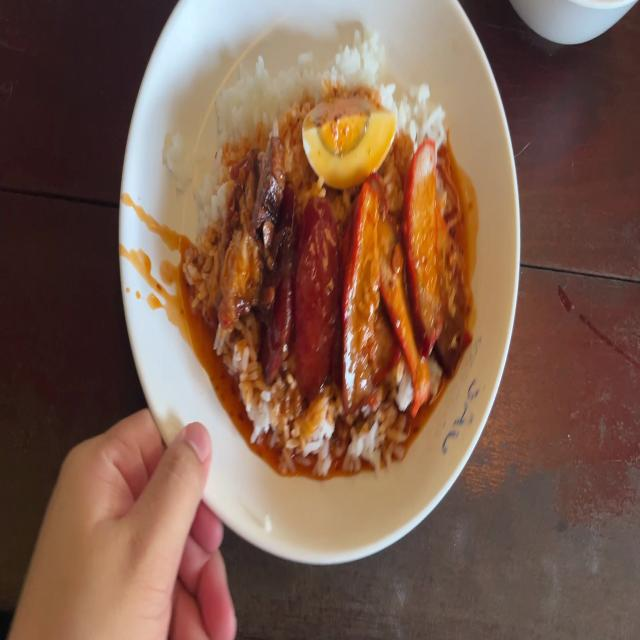01boiled_egg: (304, 98, 392, 181)
01chainese_sausage: (267, 196, 337, 373)
01crispy_pork: (225, 145, 282, 307)
01red_pork: (350, 181, 456, 406)
01red_pork_and_crispy_pork: (194, 58, 473, 438)
01rice: (243, 389, 351, 480), (214, 64, 300, 144)
